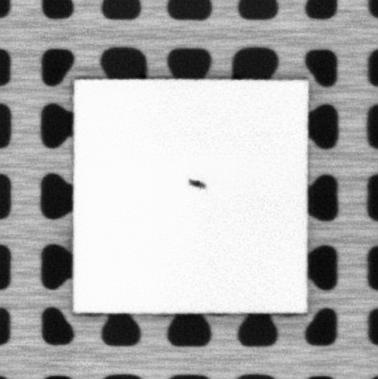DIE_INK: (188, 177, 207, 189)
